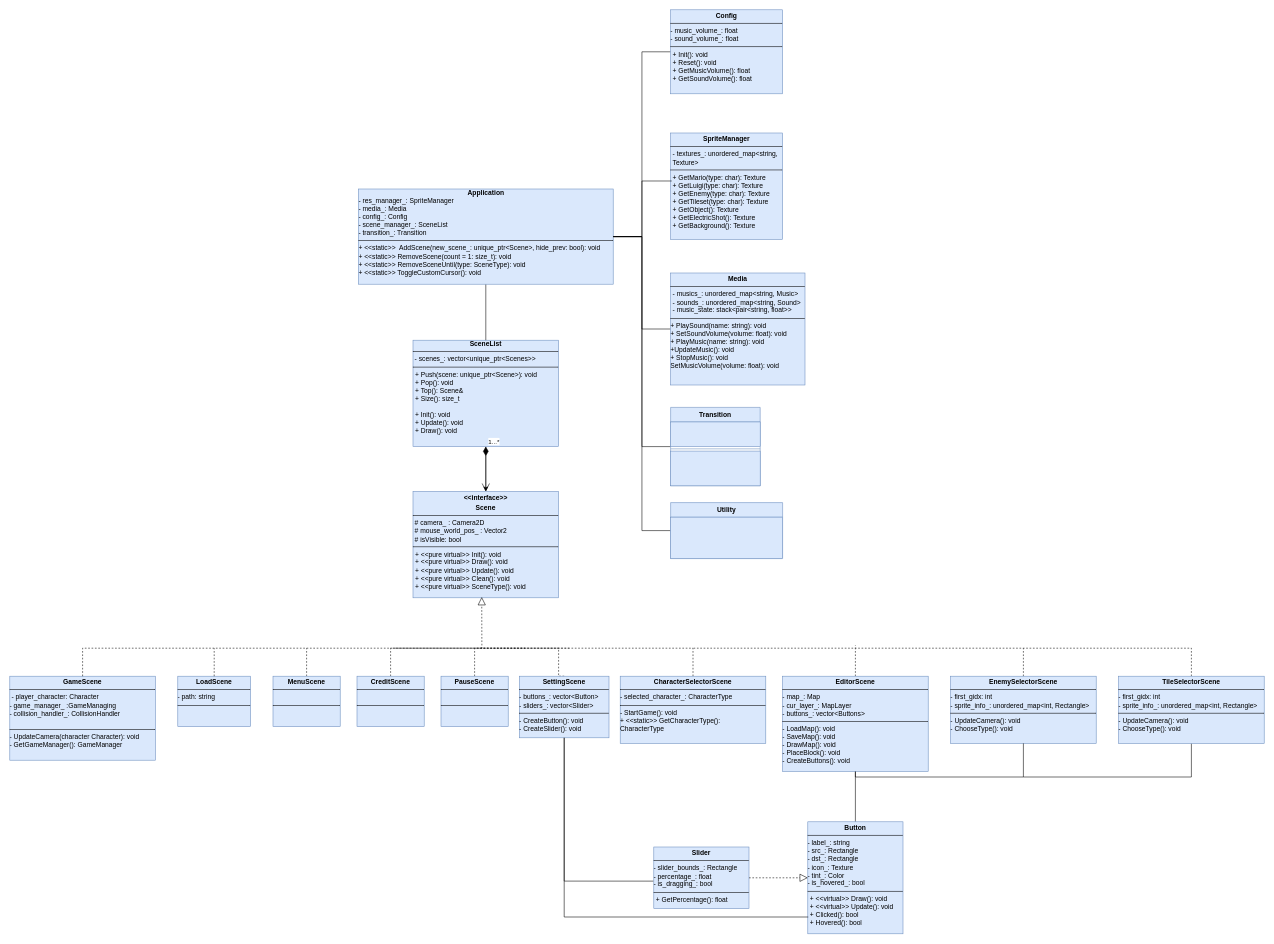
Some shapes in this 1274 by 944 pixel diagram are drawn without their labels. The shapes that lost their labels are listed below. From the top down, each one's centre as x and y in pixels, then its label:
At [715,434]: "- timer_: float - duration_: float".
At [715,468]: "+ Draw(dt: float): void + Reset(): void + Done(): bool".
At [726,538]: "+ ReadSpriteInfo(path: string, sprites: unordered_map<int, Rectangle>".
